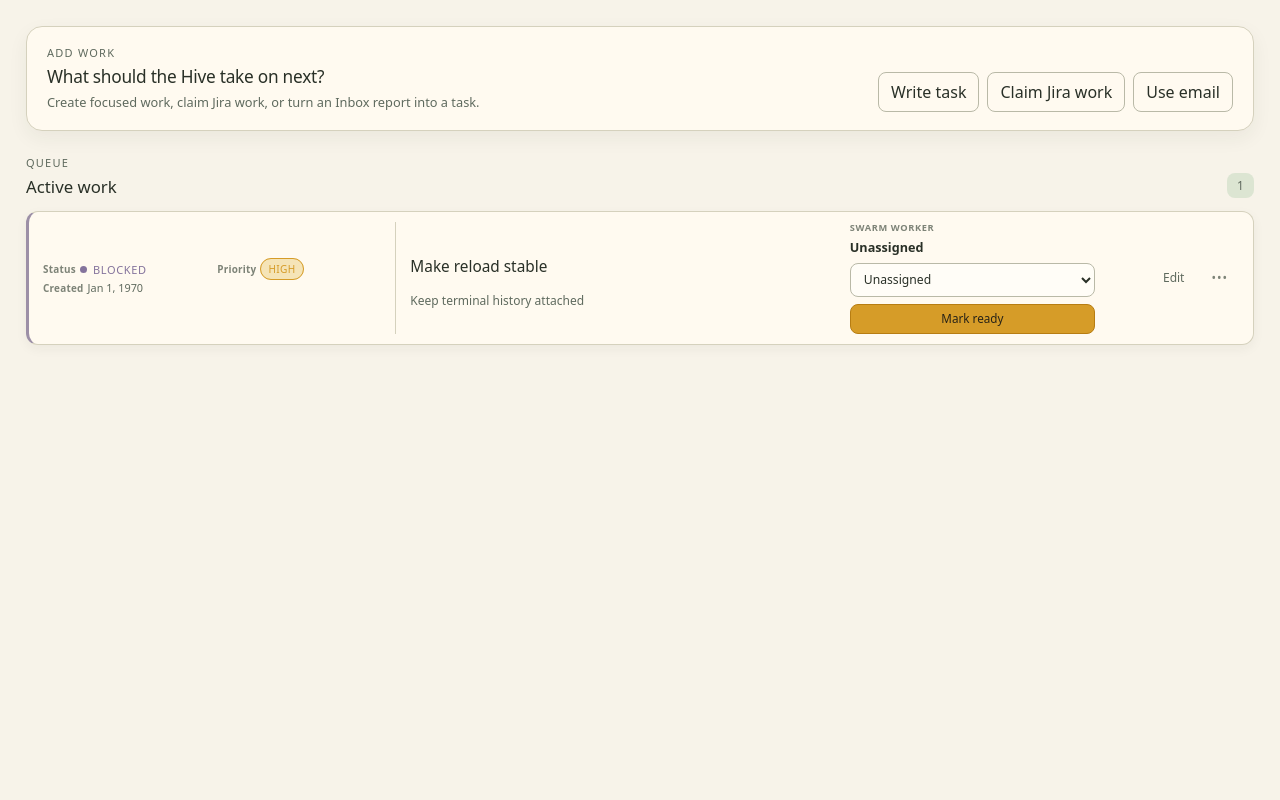
Test: opens the prerequisite editor from a blocked task's actions
Click the button "•••": x=1220, y=278 [1200, 261, 1239, 295]
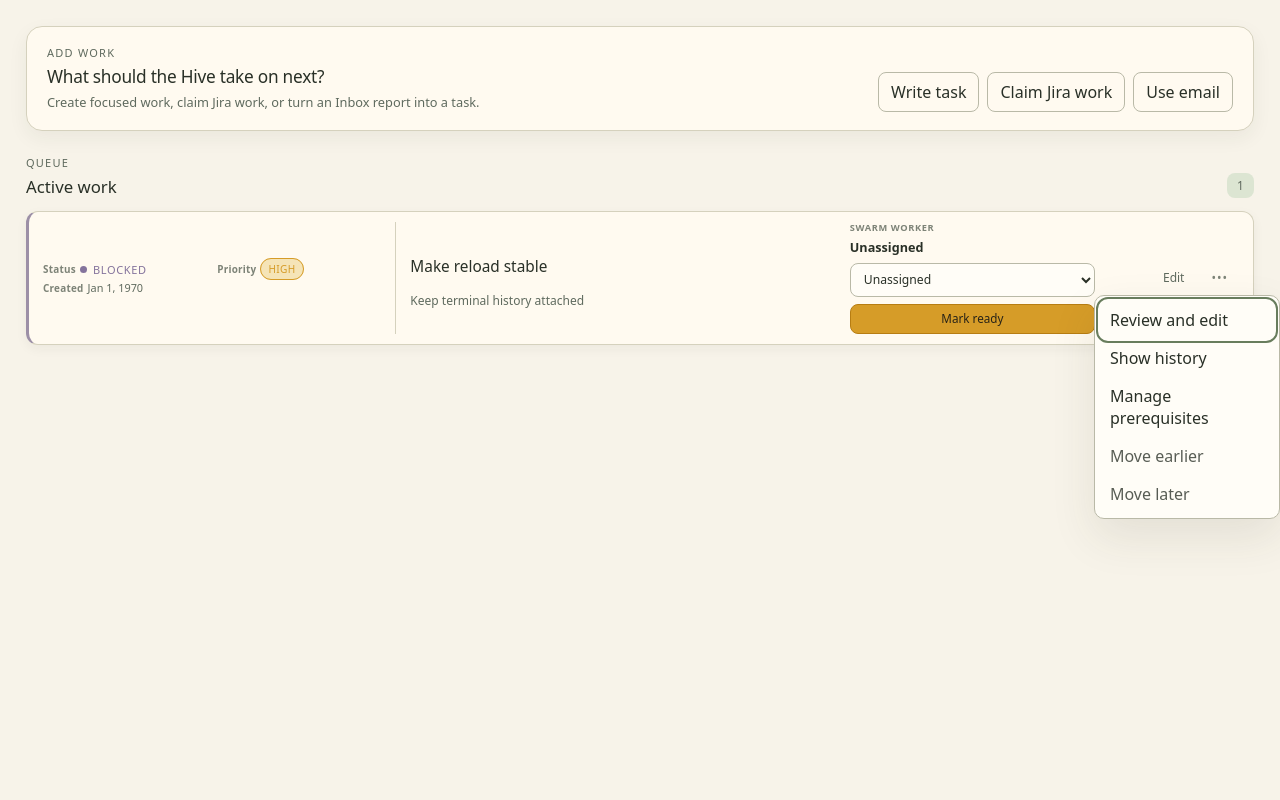
Click the menu item "Manage prerequisites": x=1187, y=407 [1100, 377, 1274, 437]
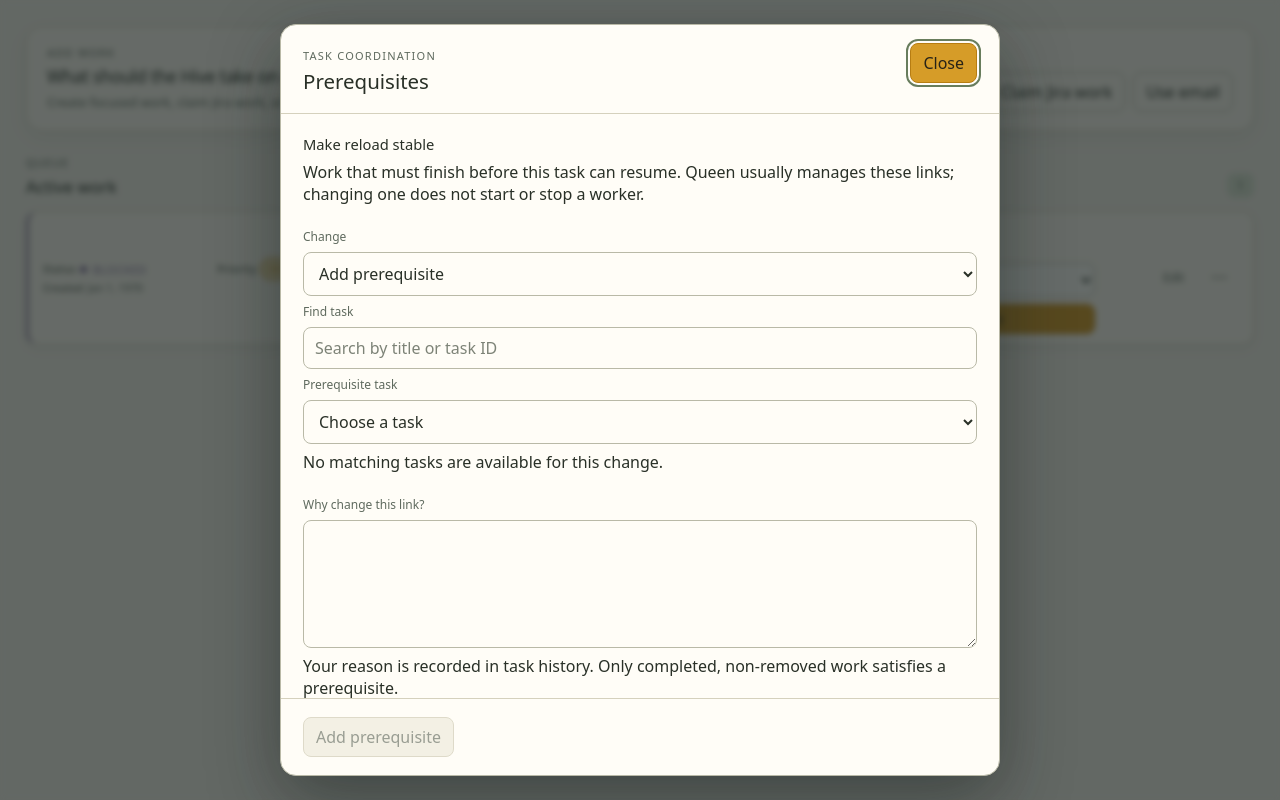
Expected: the dialog "Prerequisites" is shown, [280, 24, 1000, 776]
Expected: the text box labelled "Why change this link?" is shown, [303, 520, 977, 648]
Click the button "Close": x=944, y=63 [910, 43, 977, 83]
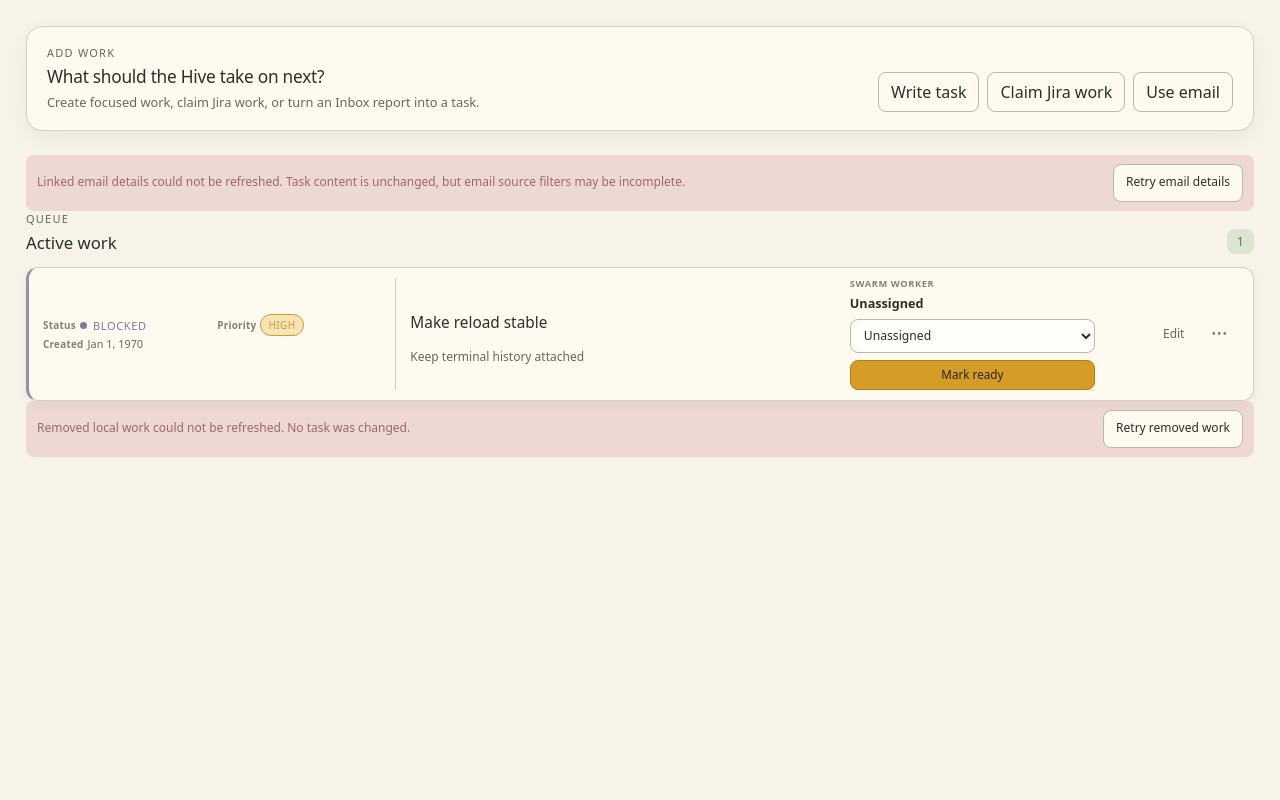
Expected: the heading "Prerequisites" is gone
